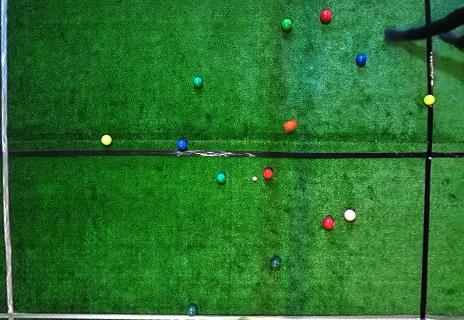blue: (177, 139, 186, 150), (357, 55, 366, 65)
green: (281, 18, 292, 30), (270, 257, 281, 269), (186, 305, 197, 317), (216, 172, 226, 184), (193, 76, 202, 87)
red: (322, 217, 334, 230), (343, 209, 356, 221), (284, 120, 296, 132), (320, 10, 331, 22), (263, 168, 273, 180)
vline: (419, 104, 464, 319), (0, 1, 18, 319), (425, 1, 463, 93)
white: (252, 176, 257, 181)
yellow: (423, 94, 436, 106), (101, 135, 112, 145)
